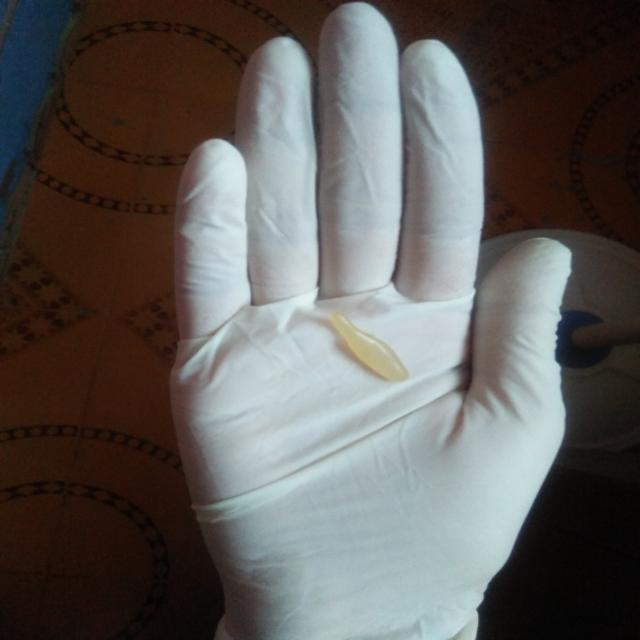glove_hand: (149, 0, 588, 637)
